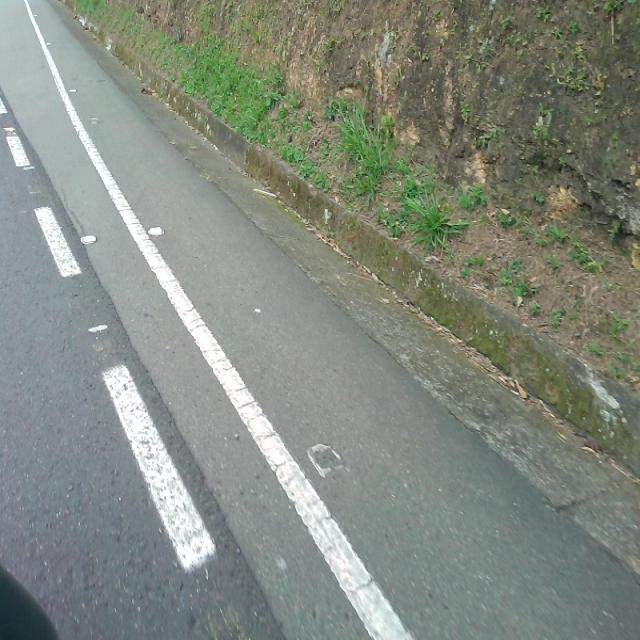DITCH: (1, 1, 638, 638), (3, 1, 638, 638)
